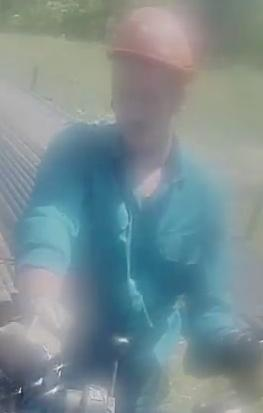gloves: (0, 290, 73, 383), (213, 323, 263, 396)
helmet: (106, 6, 195, 75)
vest: (29, 121, 225, 366)
